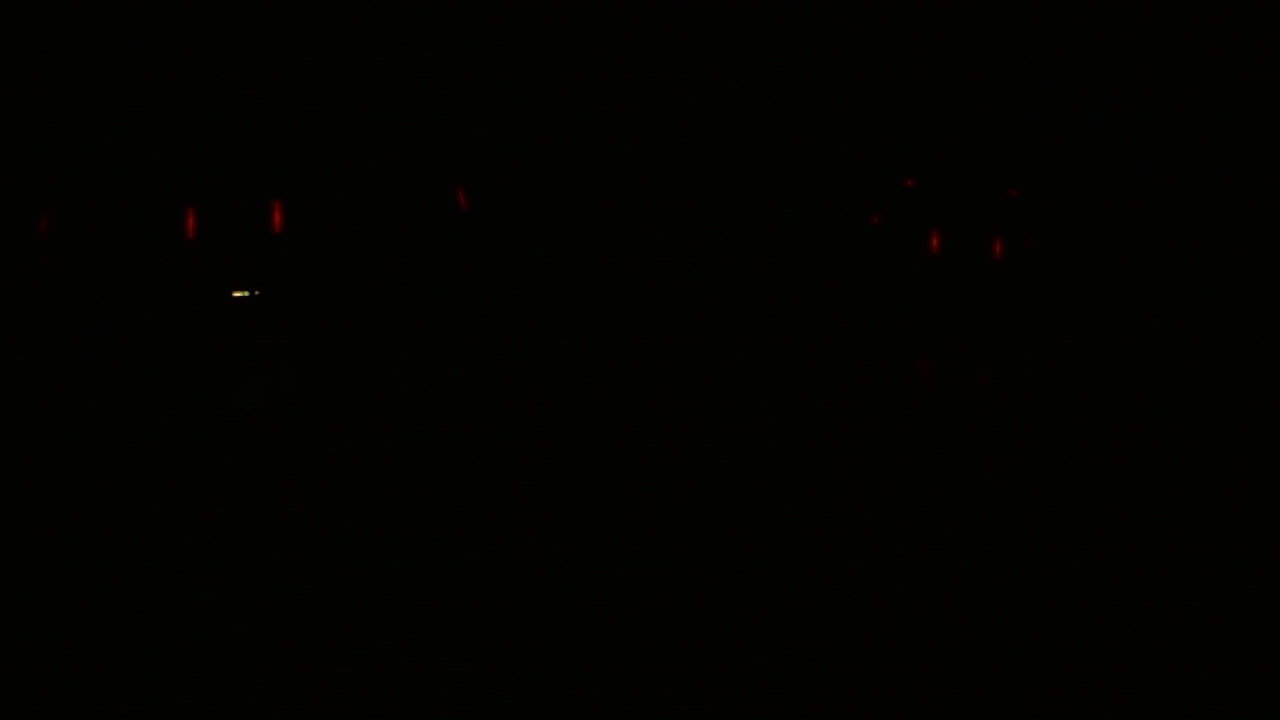pair1: (182, 204, 291, 242), (928, 230, 1003, 264)
